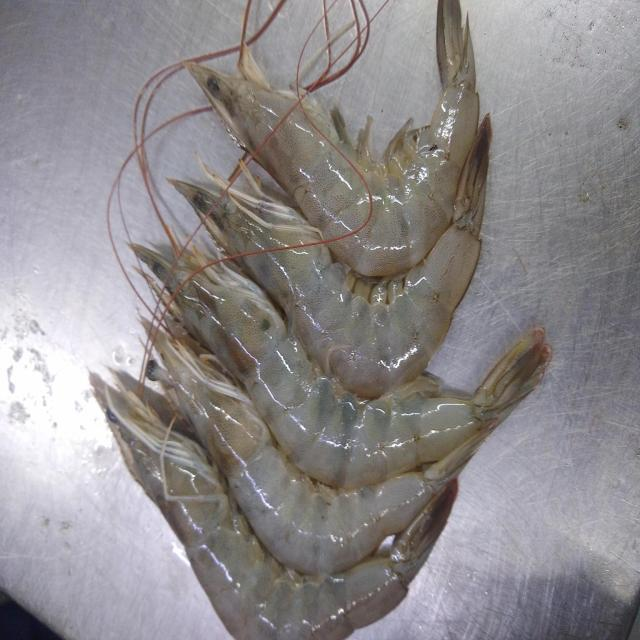shrimp: (90, 375, 458, 640), (134, 247, 486, 488), (185, 2, 479, 277), (171, 168, 485, 398), (156, 333, 436, 575)
